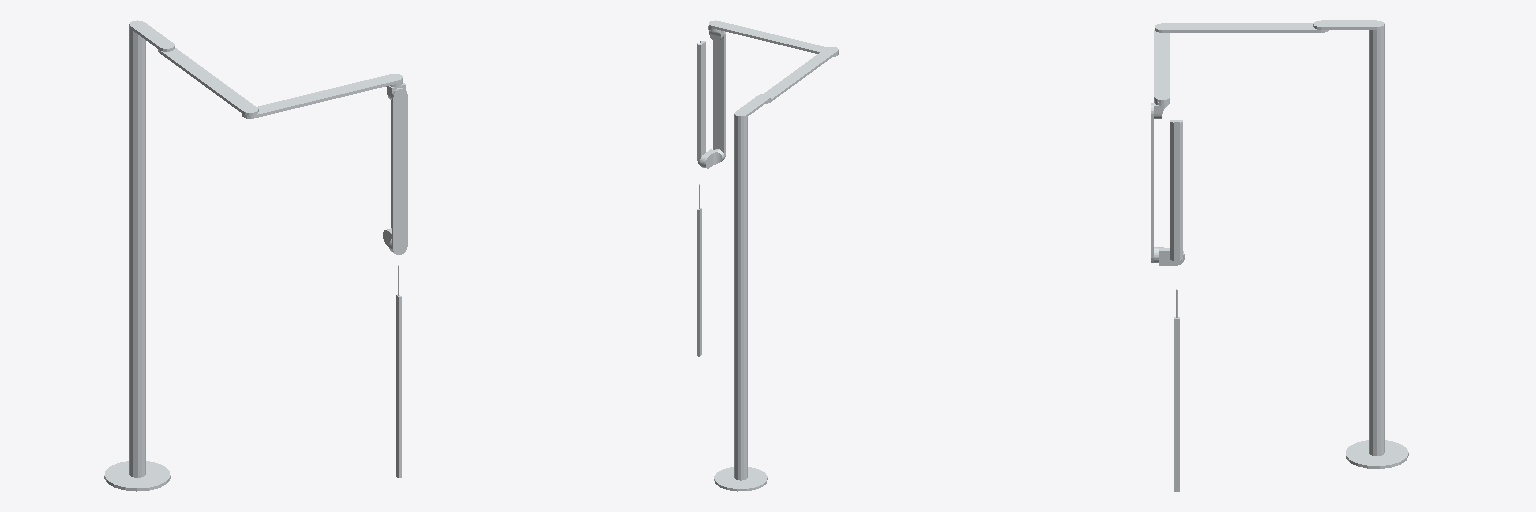
URDF robot description (medarm):
<?xml version="1.0" encoding="utf-8"?>
<!-- This URDF was automatically created by SolidWorks to URDF Exporter! Originally created by [author] ([email redacted]) 
     Commit Version: 1.6.0-4-g7f85cfe  Build Version: 1.6.7995.38578
     For more information, please see http://wiki.ros.org/sw_urdf_exporter -->
<robot
  name="medarm">
  <link
    name="base_link">
    <inertial>
      <origin
        xyz="-2.03821163683475E-17 0.171534730752603 -0.783414384790882"
        rpy="0 0 0" />
      <mass
        value="9.01755124549785" />
      <inertia
        ixx="2.07247140960394"
        ixy="7.67267798344596E-20"
        ixz="-5.17938831157247E-18"
        iyy="2.06826789127639"
        iyz="0.0245771881935619"
        izz="0.0110183736339026" />
    </inertial>
    <visual>
      <origin
        xyz="0 0 0"
        rpy="0 0 0" />
      <geometry>
        <mesh
          filename="package://medarm/meshes/base_link.STL" />
      </geometry>
      <material
        name="">
        <color
          rgba="0.898039215686275 0.917647058823529 0.929411764705882 1" />
      </material>
    </visual>
    <collision>
      <origin
        xyz="0 0 0"
        rpy="0 0 0" />
      <geometry>
        <mesh
          filename="package://medarm/meshes/base_link.STL" />
      </geometry>
    </collision>
  </link>
  <link
    name="Link 1">
    <inertial>
      <origin
        xyz="0.273302562267948 2.69702887667911E-17 -0.00546605124535897"
        rpy="0 0 0" />
      <mass
        value="0.728014376029328" />
      <inertia
        ixx="0.00015821007532516"
        ixy="-2.1977996503762E-18"
        ixz="7.69166285363975E-05"
        iyy="0.0172794149216318"
        iyz="9.83878438367148E-21"
        izz="0.0174190218388158" />
    </inertial>
    <visual>
      <origin
        xyz="0 0 0"
        rpy="0 0 0" />
      <geometry>
        <mesh
          filename="package://medarm/meshes/Link 1.STL" />
      </geometry>
      <material
        name="">
        <color
          rgba="0.898039215686275 0.917647058823529 0.929411764705882 1" />
      </material>
    </visual>
    <collision>
      <origin
        xyz="0 0 0"
        rpy="0 0 0" />
      <geometry>
        <mesh
          filename="package://medarm/meshes/Link 1.STL" />
      </geometry>
    </collision>
  </link>
  <joint
    name="J1"
    type="continuous">
    <origin
      xyz="0 0 0"
      rpy="0 0 -1.5707963267949" />
    <parent
      link="base_link" />
    <child
      link="Link 1" />
    <axis
      xyz="0 0 1" />
  </joint>
  <link
    name="Link 2">
    <inertial>
      <origin
        xyz="0.235898699097035 -0.000198886242888441 -0.005"
        rpy="0 0 0" />
      <mass
        value="0.660155974711788" />
      <inertia
        ixx="0.000147623955912093"
        ixy="1.06657630064405E-18"
        ixz="3.85195147888361E-21"
        iyy="0.0134229973753988"
        iyz="1.03371900882913E-21"
        izz="0.0135596187317324" />
    </inertial>
    <visual>
      <origin
        xyz="0 0 0"
        rpy="0 0 0" />
      <geometry>
        <mesh
          filename="package://medarm/meshes/Link 2.STL" />
      </geometry>
      <material
        name="">
        <color
          rgba="0.898039215686275 0.917647058823529 0.929411764705882 1" />
      </material>
    </visual>
    <collision>
      <origin
        xyz="0 0 0"
        rpy="0 0 0" />
      <geometry>
        <mesh
          filename="package://medarm/meshes/Link 2.STL" />
      </geometry>
    </collision>
  </link>
  <joint
    name="J2"
    type="continuous">
    <origin
      xyz="0.499801113757111 0.0141013009029647 -0.01"
      rpy="0 0 1.5707963267949" />
    <parent
      link="Link 1" />
    <child
      link="Link 2" />
    <axis
      xyz="0 0 1" />
  </joint>
  <link
    name="Link 3">
    <inertial>
      <origin
        xyz="-4.11649377363155E-08 -0.00518583052058241 -0.0205754898182167"
        rpy="0 0 0" />
      <mass
        value="0.244748418685594" />
      <inertia
        ixx="0.000120544353513894"
        ixy="6.40222901061501E-10"
        ixz="5.47959087725313E-11"
        iyy="0.0001371924122593"
        iyz="-1.82059362418803E-05"
        izz="7.19104761785958E-05" />
    </inertial>
    <visual>
      <origin
        xyz="0 0 0"
        rpy="0 0 0" />
      <geometry>
        <mesh
          filename="package://medarm/meshes/Link 3.STL" />
      </geometry>
      <material
        name="">
        <color
          rgba="0.898039215686275 0.917647058823529 0.929411764705882 1" />
      </material>
    </visual>
    <collision>
      <origin
        xyz="0 0 0"
        rpy="0 0 0" />
      <geometry>
        <mesh
          filename="package://medarm/meshes/Link 3.STL" />
      </geometry>
    </collision>
  </link>
  <joint
    name="J3"
    type="continuous">
    <origin
      xyz="0.485898699097035 -0.000198886242888774 -0.01"
      rpy="0 0 0" />
    <parent
      link="Link 2" />
    <child
      link="Link 3" />
    <axis
      xyz="0 0 -1" />
  </joint>
  <link
    name="Link 4">
    <inertial>
      <origin
        xyz="0.226697437732052 0 0.0295339487546409"
        rpy="0 0 0" />
      <mass
        value="0.728014376029328" />
      <inertia
        ixx="0.00015821007532516"
        ixy="-1.19030475453032E-18"
        ixz="-7.69166285363986E-05"
        iyy="0.0172794149216318"
        iyz="-4.39458074618261E-20"
        izz="0.0174190218388158" />
    </inertial>
    <visual>
      <origin
        xyz="0 0 0"
        rpy="0 0 0" />
      <geometry>
        <mesh
          filename="package://medarm/meshes/Link 4.STL" />
      </geometry>
      <material
        name="">
        <color
          rgba="0.898039215686275 0.917647058823529 0.929411764705882 1" />
      </material>
    </visual>
    <collision>
      <origin
        xyz="0 0 0"
        rpy="0 0 0" />
      <geometry>
        <mesh
          filename="package://medarm/meshes/Link 4.STL" />
      </geometry>
    </collision>
  </link>
  <joint
    name="J4"
    type="continuous">
    <origin
      xyz="0 0 -0.0400000000000003"
      rpy="1.5707963267949 1.5707963267949 0" />
    <parent
      link="Link 3" />
    <child
      link="Link 4" />
    <axis
      xyz="0 0 1" />
  </joint>
  <link
    name="Link 5">
    <inertial>
      <origin
        xyz="0.00707413261964218 -2.3856740916095E-08 0.0353004632382103"
        rpy="0 0 0" />
      <mass
        value="0.370475459077024" />
      <inertia
        ixx="0.000362863984321493"
        ixy="-6.76403536039678E-10"
        ixz="4.48969373637121E-05"
        iyy="0.000337999935988037"
        iyz="1.31503058470621E-10"
        izz="0.000111773204131464" />
    </inertial>
    <visual>
      <origin
        xyz="0 0 0"
        rpy="0 0 0" />
      <geometry>
        <mesh
          filename="package://medarm/meshes/Link 5.STL" />
      </geometry>
      <material
        name="">
        <color
          rgba="0.898039215686275 0.917647058823529 0.929411764705882 1" />
      </material>
    </visual>
    <collision>
      <origin
        xyz="0 0 0"
        rpy="0 0 0" />
      <geometry>
        <mesh
          filename="package://medarm/meshes/Link 5.STL" />
      </geometry>
    </collision>
  </link>
  <joint
    name="J5"
    type="continuous">
    <origin
      xyz="0.5 0 -0.045"
      rpy="0 0 1.5707963267949" />
    <parent
      link="Link 4" />
    <child
      link="Link 5" />
    <axis
      xyz="0 0 1" />
  </joint>
  <link
    name="Link 6">
    <inertial>
      <origin
        xyz="-0.227141365320987 -5.55111512312578E-17 -0.00870017025386105"
        rpy="0 0 0" />
      <mass
        value="0.684049775699944" />
      <inertia
        ixx="0.000110743192142827"
        ixy="-1.76573529561225E-19"
        ixz="5.72376533639247E-05"
        iyy="0.0144919464140292"
        iyz="1.40537879033182E-20"
        izz="0.0145725032241814" />
    </inertial>
    <visual>
      <origin
        xyz="0 0 0"
        rpy="0 0 0" />
      <geometry>
        <mesh
          filename="package://medarm/meshes/Link 6.STL" />
      </geometry>
      <material
        name="">
        <color
          rgba="0.898039215686275 0.917647058823529 0.929411764705882 1" />
      </material>
    </visual>
    <collision>
      <origin
        xyz="0 0 0"
        rpy="0 0 0" />
      <geometry>
        <mesh
          filename="package://medarm/meshes/Link 6.STL" />
      </geometry>
    </collision>
  </link>
  <joint
    name="J6"
    type="continuous">
    <origin
      xyz="0.04 0 0"
      rpy="-1.5707963267949 0 -1.5707963267949" />
    <parent
      link="Link 5" />
    <child
      link="Link 6" />
    <axis
      xyz="0 0 1" />
  </joint>
  <link
    name="Link 7">
    <inertial>
      <origin
        xyz="0 0 -0.394418166148166"
        rpy="0 0 0" />
      <mass
        value="0.329257258956242" />
      <inertia
        ixx="0.0103673470107912"
        ixy="-1.1025578829938E-21"
        ixz="3.70655083325837E-19"
        iyy="0.0103592470107912"
        iyz="3.6256021647872E-20"
        izz="1.35163737109299E-05" />
    </inertial>
    <visual>
      <origin
        xyz="0 0 0"
        rpy="0 0 0" />
      <geometry>
        <mesh
          filename="package://medarm/meshes/Link 7.STL" />
      </geometry>
      <material
        name="">
        <color
          rgba="0.898039215686275 0.917647058823529 0.929411764705882 1" />
      </material>
    </visual>
    <collision>
      <origin
        xyz="0 0 0"
        rpy="0 0 0" />
      <geometry>
        <mesh
          filename="package://medarm/meshes/Link 7.STL" />
      </geometry>
    </collision>
  </link>
  <joint
    name="J7"
    type="prismatic">
    <origin
      xyz="0.1 0 0"
      rpy="0 -1.5708 0" />
    <parent
      link="Link 6" />
    <child
      link="Link 7" />
    <axis
      xyz="0 0 1" />
    <limit
      lower="-0.5"
      upper="0.5"
      effort="0"
      velocity="0" />
  </joint>
</robot>

--- What the picture shows (computed from the rendered views, not written in the file) ---
The picture shows the robot from 3 angles, left to right: view 1: azimuth 30°, elevation 25°; view 2: azimuth 150°, elevation 25°; view 3: azimuth 270°, elevation 25°; orthographic projection.
Robot: medarm — 8 links, 7 joints (6 continuous, 1 prismatic); root link base_link; default pose: all joints at 0.
Visible links, largest first — view 1: base_link, Link 4, Link 2, Link 1, Link 7; view 2: base_link, Link 4, Link 6, Link 2, Link 1, Link 7; view 3: base_link, Link 6, Link 1, Link 7, Link 2.
Boxes of the visible links, x1=… form: base_link: x1=104, y1=20, x2=174, y2=491; Link 4: x1=392, y1=88, x2=407, y2=254; Link 2: x1=242, y1=74, x2=402, y2=118; Link 1: x1=158, y1=48, x2=258, y2=115; Link 7: x1=396, y1=265, x2=401, y2=477; base_link: x1=714, y1=93, x2=770, y2=491; Link 4: x1=713, y1=31, x2=725, y2=158; Link 6: x1=697, y1=41, x2=705, y2=164; Link 2: x1=709, y1=20, x2=838, y2=56; Link 1: x1=765, y1=47, x2=838, y2=103; Link 7: x1=697, y1=184, x2=701, y2=356; base_link: x1=1313, y1=20, x2=1408, y2=468; Link 6: x1=1170, y1=120, x2=1182, y2=265; Link 1: x1=1155, y1=23, x2=1328, y2=32; Link 7: x1=1174, y1=289, x2=1179, y2=491; Link 2: x1=1154, y1=30, x2=1169, y2=102.
Bounding box of the posed robot: 0.6446 × 0.81 × 1.5 m (x, y, z).
Meshes: 8 distinct files referenced, 8 mesh visuals loaded (8 binary STL).